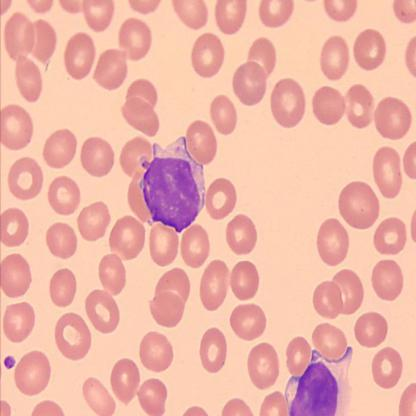Atypical lymphocyte: (138, 135, 204, 235)
